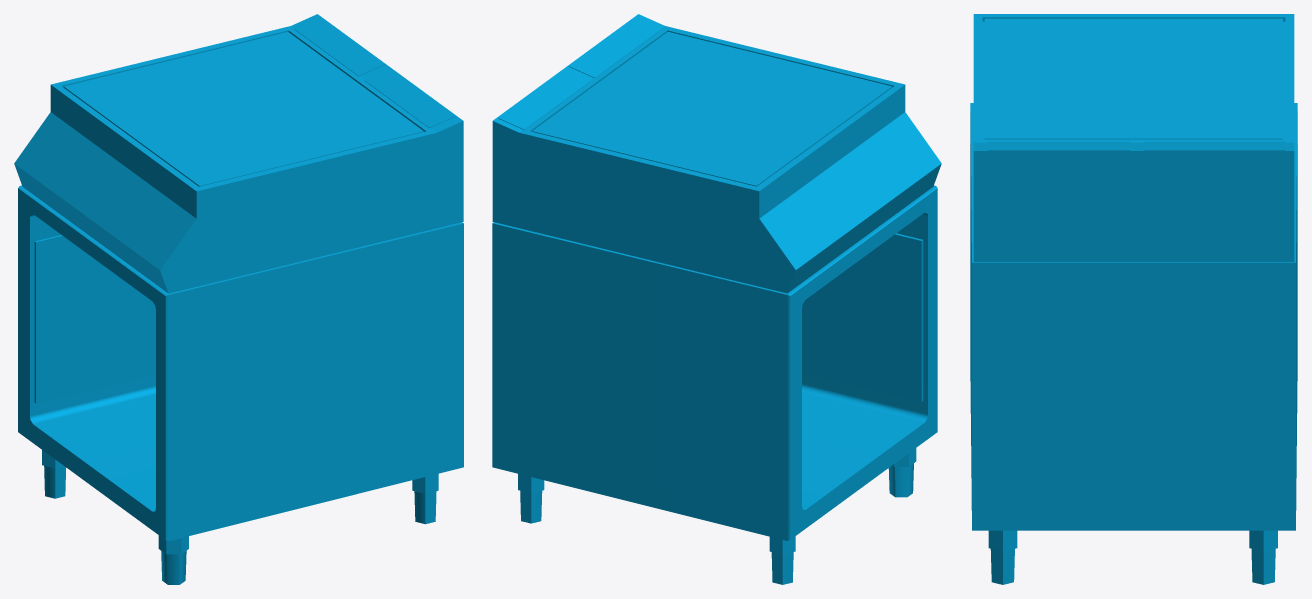
File: Restaurant_Electric_Oven_Lod1.fbx
The picture shows the model from 3 angles, left to right: view 1: azimuth 30°, elevation 25°; view 2: azimuth 150°, elevation 25°; view 3: azimuth 270°, elevation 25°; orthographic projection. The views are drawn at different scales.
Parts seen in each view (by area): view 1: Restaurant_Electric_Oven_Lod1; view 2: Restaurant_Electric_Oven_Lod1; view 3: Restaurant_Electric_Oven_Lod1.
Part boxes in pixels (bbox=[...]): Restaurant_Electric_Oven_Lod1: bbox=[14, 14, 463, 584]; Restaurant_Electric_Oven_Lod1: bbox=[492, 14, 941, 584]; Restaurant_Electric_Oven_Lod1: bbox=[970, 14, 1297, 584].
Bounding box in the file's own units: 69.61 × 88.25 × 59.19.
